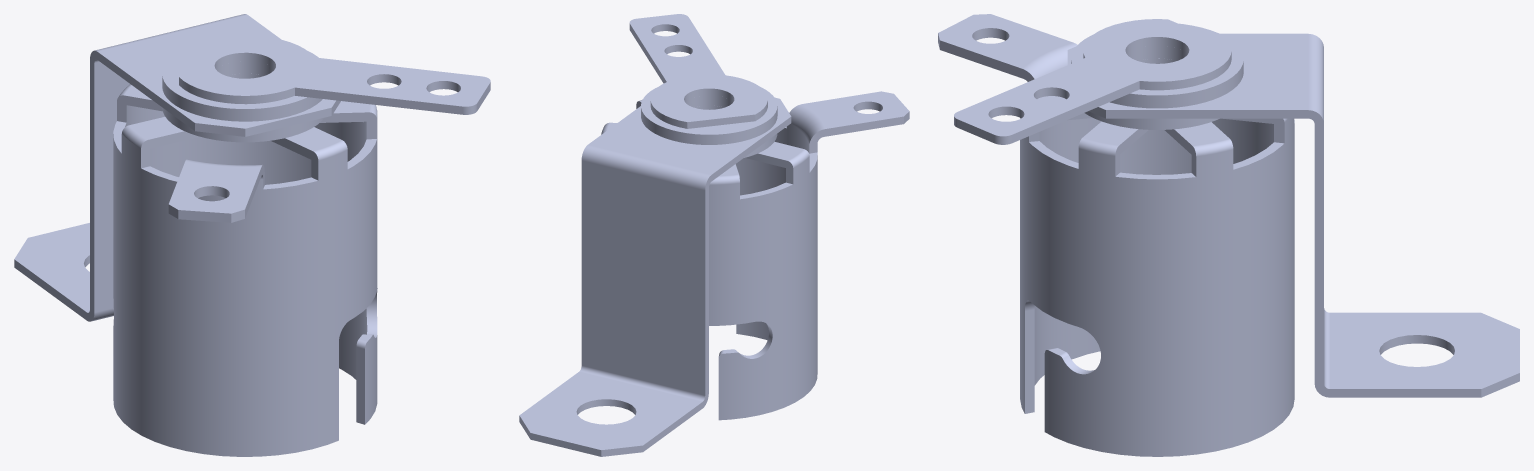
File: Lamp Socket 89 (A-8798).fbx
3 renders of one model, left to right at view 1: azimuth 30°, elevation 25°; view 2: azimuth 150°, elevation 25°; view 3: azimuth 270°, elevation 25°, orthographic. The views are drawn at different scales.
Parts seen in each view (by area): view 1: 89 Socket base, 44 mtg bkt 750, 44 Flat Tab, Fiber washer (×2); view 2: 44 mtg bkt 750, 89 Socket base, 44 Flat Tab, Fiber washer; view 3: 89 Socket base, 44 mtg bkt 750, 44 Flat Tab, Fiber washer (×2).
Part boxes in pixels (left/top/right/bottom): 89 Socket base: left=113, top=84, right=377, bottom=456; 44 mtg bkt 750: left=14, top=14, right=340, bottom=321; 44 Flat Tab: left=179, top=35, right=490, bottom=114; Fiber washer (×2): left=162, top=45, right=324, bottom=142; 44 mtg bkt 750: left=519, top=97, right=791, bottom=456; 89 Socket base: left=601, top=91, right=909, bottom=420; 44 Flat Tab: left=629, top=14, right=767, bottom=128; Fiber washer: left=641, top=87, right=777, bottom=144; 89 Socket base: left=938, top=14, right=1294, bottom=456; 44 mtg bkt 750: left=1067, top=33, right=1519, bottom=397; 44 Flat Tab: left=954, top=19, right=1231, bottom=144; Fiber washer (×2): left=1071, top=23, right=1243, bottom=129.
Size of the model in its own units: 2.42 by 2.38 by 3.6.
